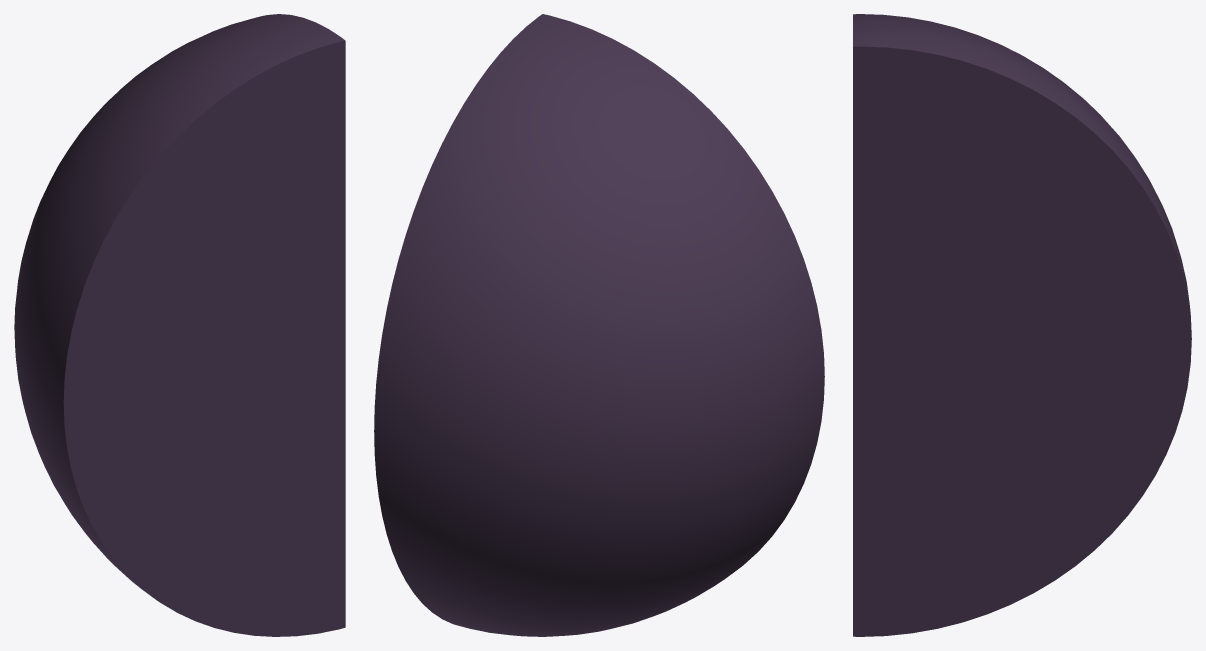
Rendered from newshu-91-f3.glb.
The picture shows the model from 3 angles, left to right: view 1: azimuth 30°, elevation 25°; view 2: azimuth 150°, elevation 25°; view 3: azimuth 270°, elevation 25°; orthographic projection.
Parts seen in each view (by area): view 1: newshu-91-f3; view 2: newshu-91-f3; view 3: newshu-91-f3.
Part boxes in pixels (box(x1,y1,x2,y2)): newshu-91-f3: box(14, 14, 345, 636); newshu-91-f3: box(374, 14, 824, 636); newshu-91-f3: box(853, 14, 1191, 636).
Bounding box in the file's own units: 1.92 × 3.83 × 1.99.
